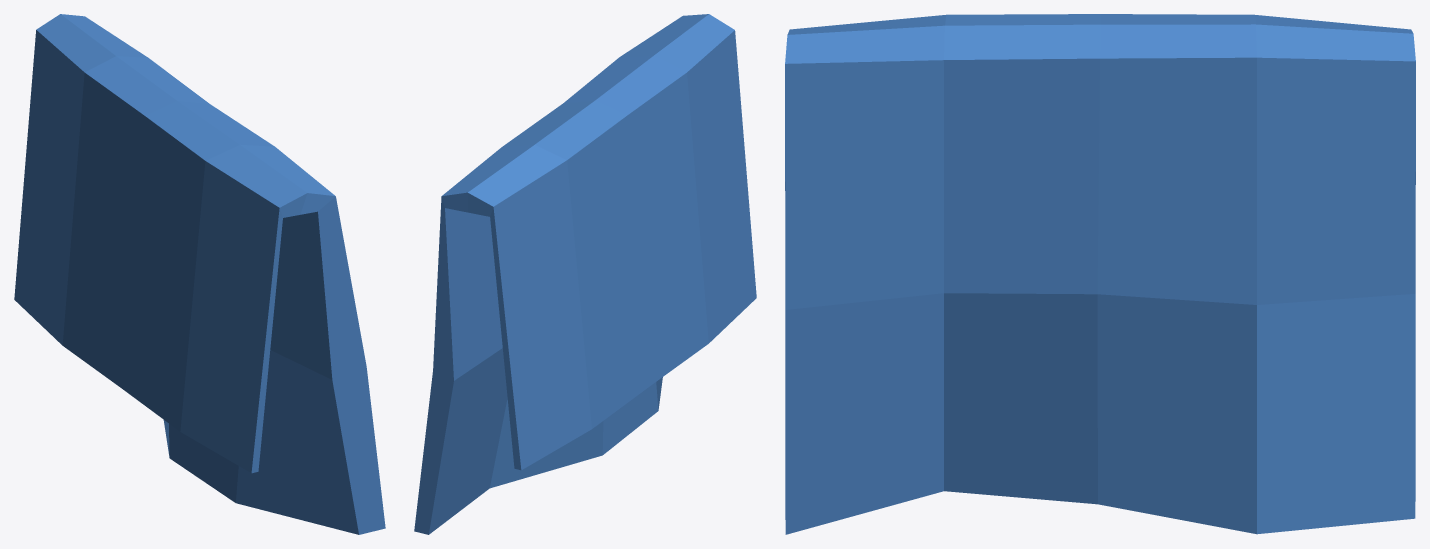
File: Bathroom_Towel.fbx
3 renders of one model, left to right at view 1: azimuth 30°, elevation 25°; view 2: azimuth 150°, elevation 25°; view 3: azimuth 270°, elevation 25°, orthographic. The views are drawn at different scales.
Parts seen in each view (by area): view 1: Bathroom_Towel; view 2: Bathroom_Towel; view 3: Bathroom_Towel.
Part boxes in pixels (x1,y1,x2,y2): Bathroom_Towel: (14,14,385,534); Bathroom_Towel: (414,14,756,534); Bathroom_Towel: (785,14,1415,534).
Size of the model in its own units: 26.46 by 63.71 by 79.63.
